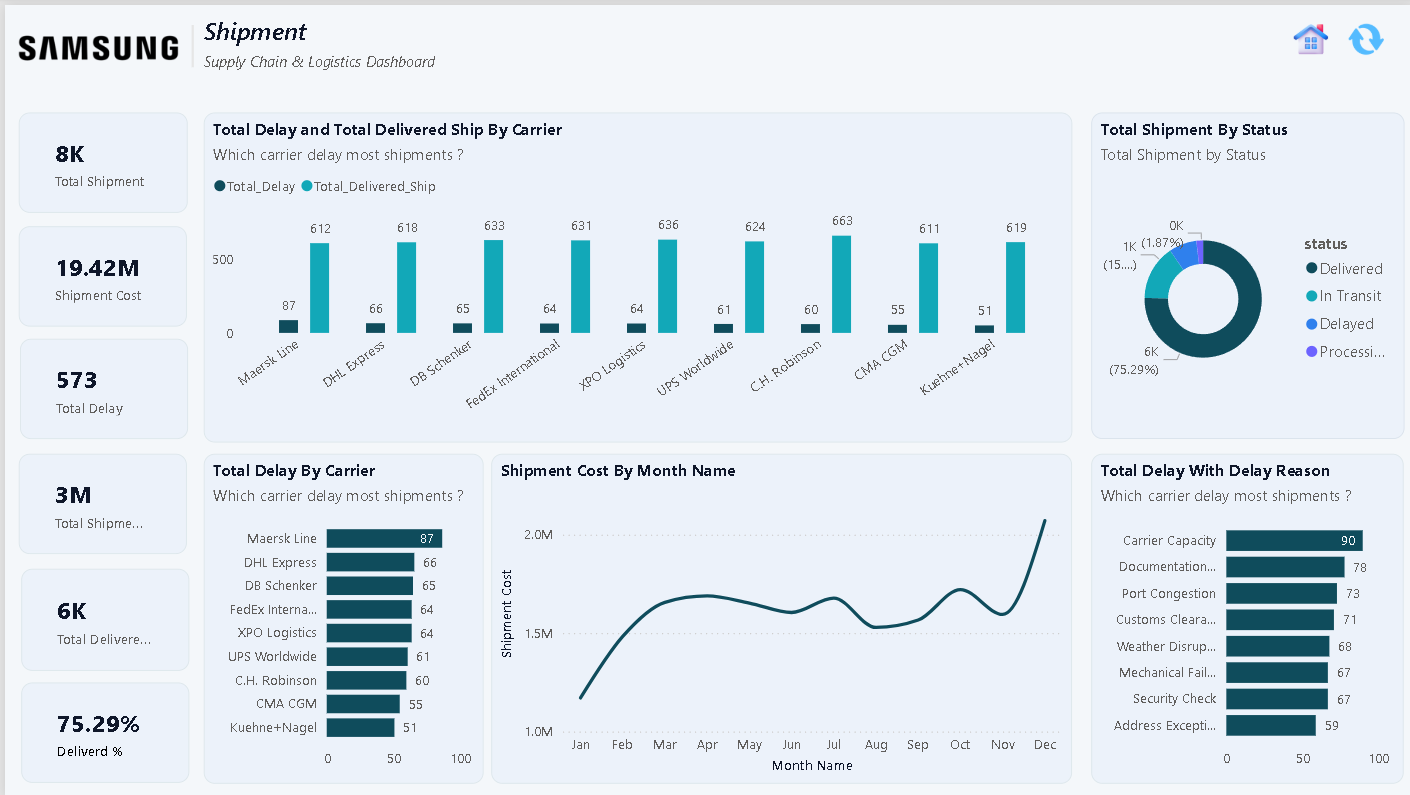

What the dashboard file says about the page in this screenshot:
{"tool":"powerbi","page":{"name":"Shipment","canvas":[1280,720],"ordinal":4},"visuals":[{"type":"shape","title":"Shipment","box":[180.2,8.1,220.9,57],"z":0},{"type":"shape","box":[161.6,18.6,18.6,38.4],"z":1000},{"type":"image","box":[1.2,15.1,160.5,47.7],"z":2000},{"type":"cardVisual","fields":{"Data":["MeasuresTable.Shipment Cost"]},"box":[12.2,201.2,152.4,91.5],"z":3000},{"type":"cardVisual","fields":{"Data":["MeasuresTable.Total_Delay"]},"box":[13.7,303.9,153,91],"z":4000},{"type":"cardVisual","fields":{"Data":["MeasuresTable.Total_Shipment_Quantity"]},"box":[12.8,408.3,153,91.5],"z":5000},{"type":"cardVisual","fields":{"Data":["MeasuresTable.Total_Delivered_Ship"]},"box":[14.3,512.3,152.9,93.2],"z":6000},{"type":"cardVisual","fields":{"Data":["MeasuresTable.Total_Shipment"]},"box":[12.2,97.6,153.7,91.5],"z":7000},{"type":"cardVisual","fields":{"Data":["MeasuresTable.Deliverd %"]},"box":[14.6,615.9,152.4,91.5],"z":8000},{"type":"clusteredBarChart","title":"Total Delay By Carrier","fields":{"Y":["MeasuresTable.Total_Delay1"],"Category":["fact_shipment.carrier"]},"box":[180.3,408.4,254.4,299.8],"z":9000},{"type":"clusteredColumnChart","title":"Total Delay and Total Delivered Ship By Carrier","fields":{"Category":["fact_shipment.carrier"],"Y":["MeasuresTable.Total_Delay","MeasuresTable.Total_Delivered_Ship"]},"box":[180.3,97.9,789.4,299.8],"z":10000},{"type":"lineChart","title":"Shipment Cost By Month Name","fields":{"Y":["MeasuresTable.Shipment Cost"],"Category":["dim_date.Short_Date"]},"box":[441.9,408.4,527.9,299.8],"z":11000},{"type":"clusteredBarChart","title":"Total Delay With Delay Reason","fields":{"Y":["MeasuresTable.Total_Delay"],"Category":["fact_shipment.delay_reason"]},"box":[987.6,408.4,284.2,299.8],"z":12000},{"type":"donutChart","title":"Total Shipment By Status","fields":{"Category":["fact_shipment.status"],"Y":["MeasuresTable.Total_Shipment"]},"box":[987.2,97.7,284.9,296.5],"z":13000},{"type":"image","box":[1172.1,15.1,31.4,32.6],"z":14000},{"type":"image","box":[1216.3,15.1,43,32.6],"z":15000}]}

Visuals, with their boxes in screenshot pixels (x1, y1, x2, y2), scaled from the page's 1280x720 canvas onto the 1410x795 screenshot:
"Shipment" shape: [left=199, top=9, right=442, bottom=72]
shape: [left=178, top=21, right=199, bottom=63]
image: [left=1, top=17, right=178, bottom=69]
cardVisual - MeasuresTable.Shipment Cost: [left=13, top=222, right=181, bottom=323]
cardVisual - MeasuresTable.Total_Delay: [left=15, top=336, right=184, bottom=436]
cardVisual - MeasuresTable.Total_Shipment_Quantity: [left=14, top=451, right=183, bottom=552]
cardVisual - MeasuresTable.Total_Delivered_Ship: [left=16, top=566, right=184, bottom=669]
cardVisual - MeasuresTable.Total_Shipment: [left=13, top=108, right=183, bottom=209]
cardVisual - MeasuresTable.Deliverd %: [left=16, top=680, right=184, bottom=781]
"Total Delay By Carrier" clusteredBarChart: [left=199, top=451, right=479, bottom=782]
"Total Delay and Total Delivered Ship By Carrier" clusteredColumnChart: [left=199, top=108, right=1068, bottom=439]
"Shipment Cost By Month Name" lineChart: [left=487, top=451, right=1068, bottom=782]
"Total Delay With Delay Reason" clusteredBarChart: [left=1088, top=451, right=1401, bottom=782]
"Total Shipment By Status" donutChart: [left=1087, top=108, right=1401, bottom=435]
image: [left=1291, top=17, right=1326, bottom=53]
image: [left=1340, top=17, right=1387, bottom=53]
